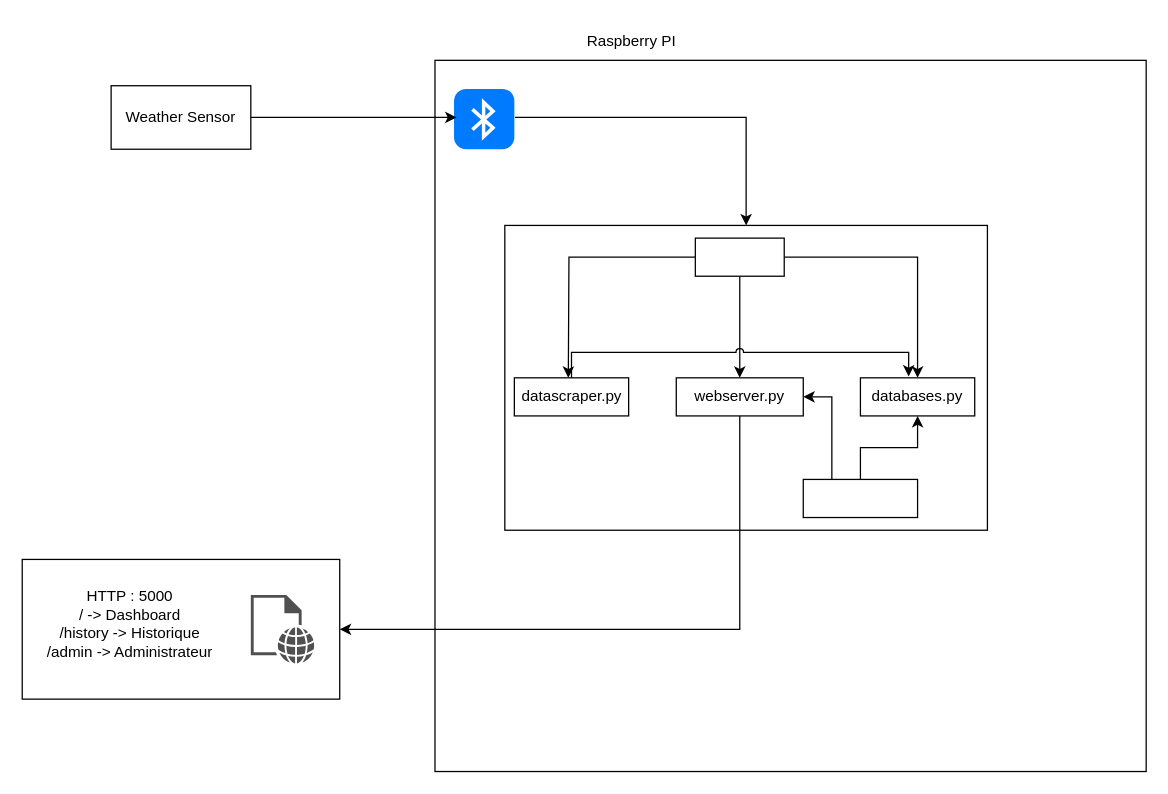
The diagram is 1168 pixels wide and 794 high, and some of its shapes have lost their labels. The centre of each missing label's shape, as x and y in pixels:
Database: the point at 860,498
Main.py: the point at 739,256
